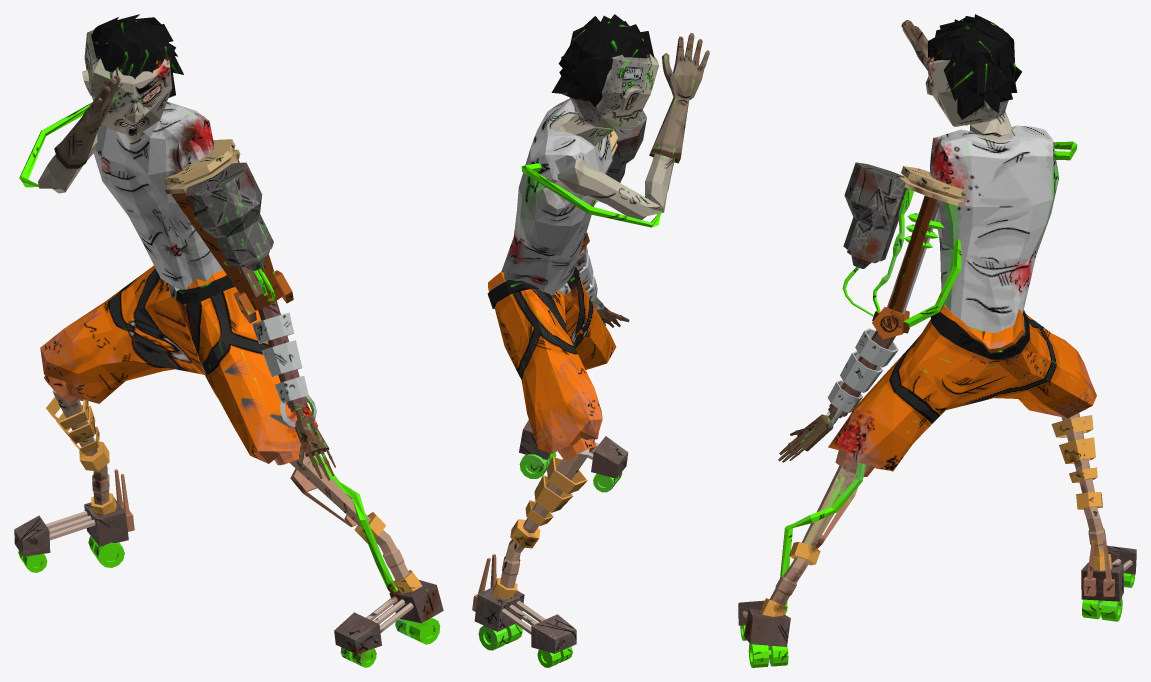
File: CyborgFINALAnimation_000006.obj
3 renders of one model, left to right at view 1: azimuth 30°, elevation 25°; view 2: azimuth 150°, elevation 25°; view 3: azimuth 270°, elevation 25°, orthographic. The views are drawn at different scales.
Parts seen in each view (by area): view 1: CyborgMesh_Cube.002; view 2: CyborgMesh_Cube.002; view 3: CyborgMesh_Cube.002.
Part boxes in pixels (bbox=[...]): CyborgMesh_Cube.002: bbox=[14, 14, 443, 667]; CyborgMesh_Cube.002: bbox=[472, 14, 709, 667]; CyborgMesh_Cube.002: bbox=[738, 14, 1136, 667].
Size of the model in its own units: 4.13 by 8.68 by 5.43.
